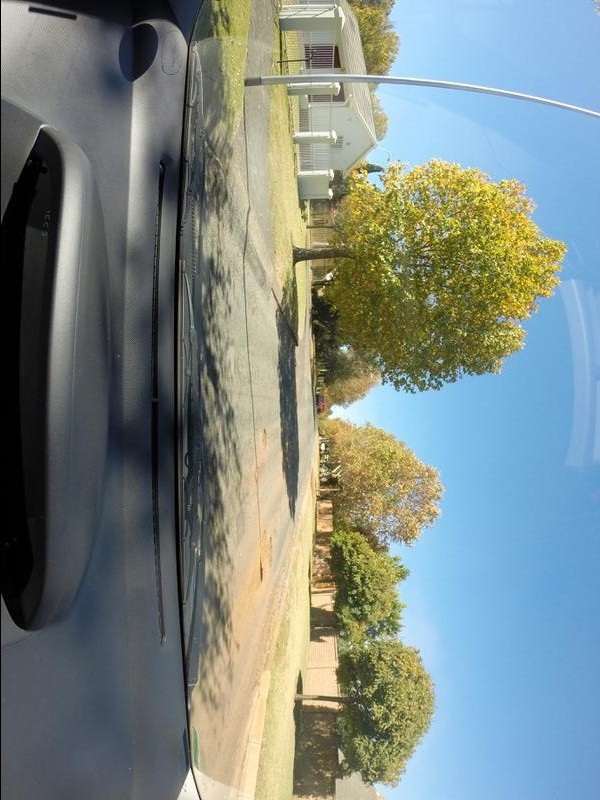pothole: (245, 539, 280, 596), (253, 422, 270, 461)
